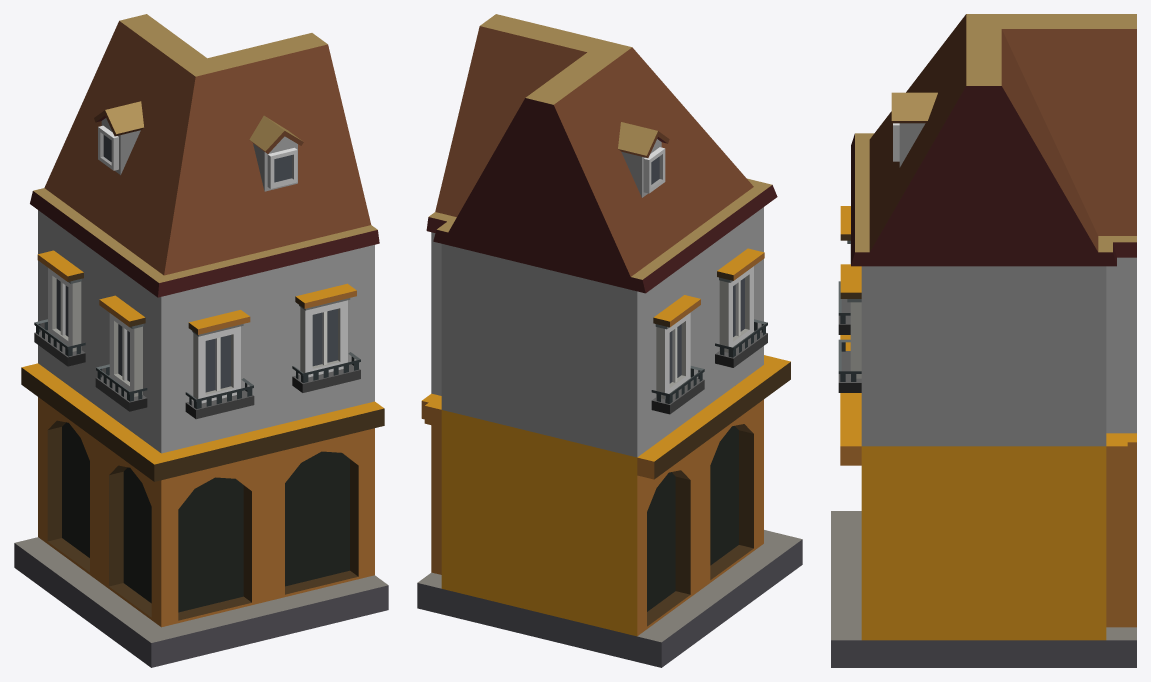
Rendered from TB_CITY_BD_Yellow_Corner.FBX.
3 renders of one model, left to right at view 1: azimuth 30°, elevation 25°; view 2: azimuth 150°, elevation 25°; view 3: azimuth 270°, elevation 25°, orthographic. The views are drawn at different scales.
Parts seen in each view (by area): view 1: TB_CITY_BD_Yellow_Corner; view 2: TB_CITY_BD_Yellow_Corner; view 3: TB_CITY_BD_Yellow_Corner.
Boxes of the visible parts, x1,y1,x2,y2 form: TB_CITY_BD_Yellow_Corner: (14,14,388,667); TB_CITY_BD_Yellow_Corner: (417,14,802,667); TB_CITY_BD_Yellow_Corner: (831,14,1136,667).
Bounding box in the file's own units: 7.99 × 16.78 × 7.99.
